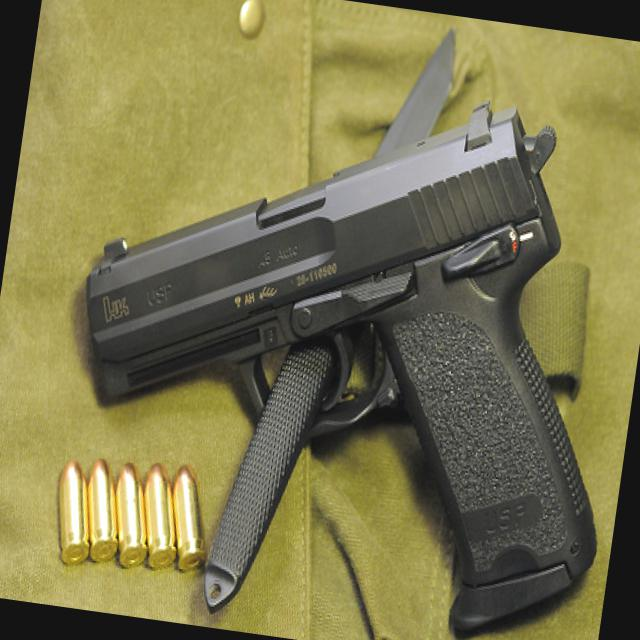handgun: (40, 44, 639, 639)
